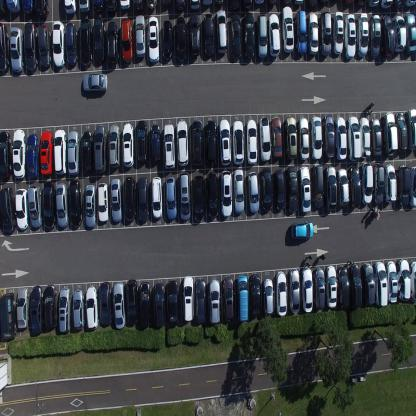car: (0, 186, 16, 235), (382, 110, 398, 158), (27, 184, 43, 230), (0, 293, 16, 339), (12, 128, 26, 180), (92, 15, 106, 65), (93, 125, 107, 174), (396, 257, 411, 302), (219, 168, 233, 216), (218, 118, 232, 166), (53, 128, 67, 176), (30, 284, 43, 335), (175, 120, 189, 167), (39, 129, 53, 176), (178, 171, 191, 221), (24, 22, 37, 72), (206, 171, 220, 217), (373, 262, 387, 308), (55, 182, 69, 228), (69, 179, 82, 228), (85, 285, 99, 330), (137, 175, 150, 223), (82, 71, 108, 95), (58, 286, 71, 334), (166, 279, 179, 327), (236, 274, 249, 322), (281, 5, 294, 53), (147, 14, 160, 62), (52, 20, 65, 68), (99, 281, 113, 325), (380, 14, 394, 58), (80, 16, 92, 67), (258, 115, 271, 162), (222, 276, 235, 323), (334, 115, 347, 162), (121, 17, 134, 64), (10, 26, 23, 73), (260, 166, 273, 212), (126, 278, 139, 324), (153, 282, 166, 328), (208, 278, 221, 324), (347, 115, 360, 161), (356, 11, 369, 57), (193, 173, 205, 222), (43, 180, 55, 229), (0, 130, 12, 179), (15, 188, 29, 230), (284, 115, 297, 160), (123, 175, 136, 220), (325, 164, 337, 212), (26, 132, 38, 180), (113, 281, 125, 329), (182, 274, 194, 322), (301, 266, 313, 314), (230, 12, 242, 60), (394, 111, 408, 152), (150, 175, 163, 219), (247, 170, 260, 214), (16, 286, 29, 330), (65, 22, 78, 66), (38, 24, 51, 68), (233, 167, 245, 214), (205, 118, 217, 165), (246, 118, 258, 165), (122, 122, 134, 169), (286, 165, 298, 212), (81, 129, 93, 176), (67, 129, 79, 176), (140, 281, 152, 328), (344, 13, 356, 60), (319, 10, 331, 57), (256, 13, 268, 60), (397, 164, 410, 207), (44, 284, 57, 327), (299, 166, 311, 212), (108, 123, 120, 169), (110, 177, 122, 223), (275, 270, 287, 316), (288, 268, 300, 314), (216, 9, 228, 55), (203, 12, 215, 58), (232, 120, 244, 165), (310, 115, 322, 160), (312, 164, 324, 209), (165, 175, 177, 220), (322, 114, 334, 159), (268, 12, 280, 57), (191, 118, 202, 166), (163, 122, 174, 170), (298, 116, 310, 160), (136, 118, 147, 166), (361, 161, 373, 205), (386, 260, 398, 304), (72, 287, 84, 331), (249, 274, 261, 318), (325, 264, 337, 308), (350, 265, 362, 309), (368, 14, 380, 58), (243, 11, 254, 59), (134, 14, 146, 58), (107, 21, 119, 65), (295, 9, 306, 56), (273, 168, 285, 211), (313, 267, 325, 310), (337, 266, 349, 309), (0, 23, 10, 74), (195, 278, 206, 324), (97, 181, 109, 223), (362, 264, 374, 306), (271, 115, 282, 160), (85, 184, 96, 229), (332, 10, 343, 55), (404, 12, 416, 53), (307, 12, 318, 56), (189, 13, 200, 57), (393, 15, 406, 52), (337, 167, 349, 207), (176, 15, 186, 62), (359, 116, 370, 158), (370, 116, 381, 158), (290, 221, 314, 240), (373, 163, 384, 204), (406, 107, 416, 151), (350, 165, 360, 208), (150, 124, 161, 163), (385, 163, 396, 202), (162, 19, 172, 61), (263, 278, 274, 315), (34, 0, 50, 18), (410, 261, 416, 303), (6, 0, 21, 15), (410, 165, 415, 208), (64, 0, 77, 15), (91, 0, 104, 14), (106, 0, 118, 15), (22, 0, 34, 15), (78, 0, 90, 14), (133, 0, 144, 14), (380, 0, 392, 11), (228, 0, 239, 12), (189, 0, 200, 12), (175, 0, 186, 12), (119, 0, 130, 12), (0, 0, 7, 18), (241, 0, 252, 11), (366, 0, 378, 9), (146, 0, 158, 9), (404, 0, 416, 8), (160, 0, 172, 8), (393, 0, 403, 9), (307, 0, 318, 8), (343, 0, 355, 7), (355, 0, 366, 7), (293, 0, 304, 7), (267, 0, 278, 7), (201, 0, 212, 6), (254, 0, 264, 6), (281, 0, 292, 5), (214, 0, 225, 5), (319, 0, 329, 5)
